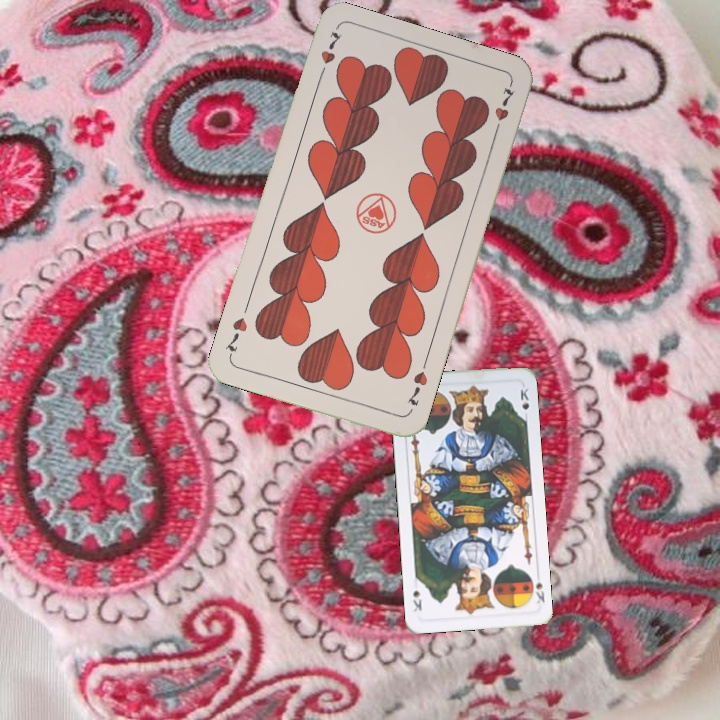H7: (314, 27, 343, 83), (403, 367, 431, 408)
SK: (532, 578, 547, 606)
